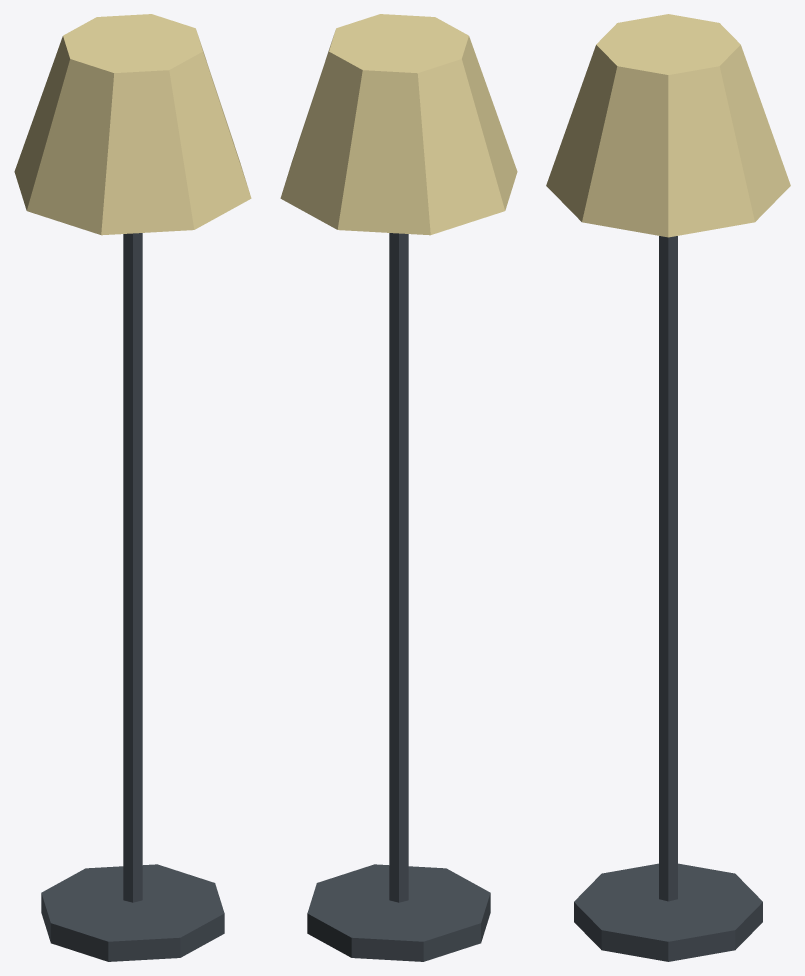
File: GD_FloorLamp_01.glb
The picture shows the model from 3 angles, left to right: view 1: azimuth 30°, elevation 25°; view 2: azimuth 150°, elevation 25°; view 3: azimuth 270°, elevation 25°; orthographic projection.
Parts seen in each view (by area): view 1: GD_FloorLamp_01; view 2: GD_FloorLamp_01; view 3: GD_FloorLamp_01.
Boxes of the visible parts, x1=… form: GD_FloorLamp_01: x1=14, y1=14, x2=251, y2=961; GD_FloorLamp_01: x1=280, y1=14, x2=517, y2=961; GD_FloorLamp_01: x1=546, y1=14, x2=790, y2=961.
Size of the model in its own units: 0.44 by 1.74 by 0.44.
Materials: 1 (1 with a texture image).
